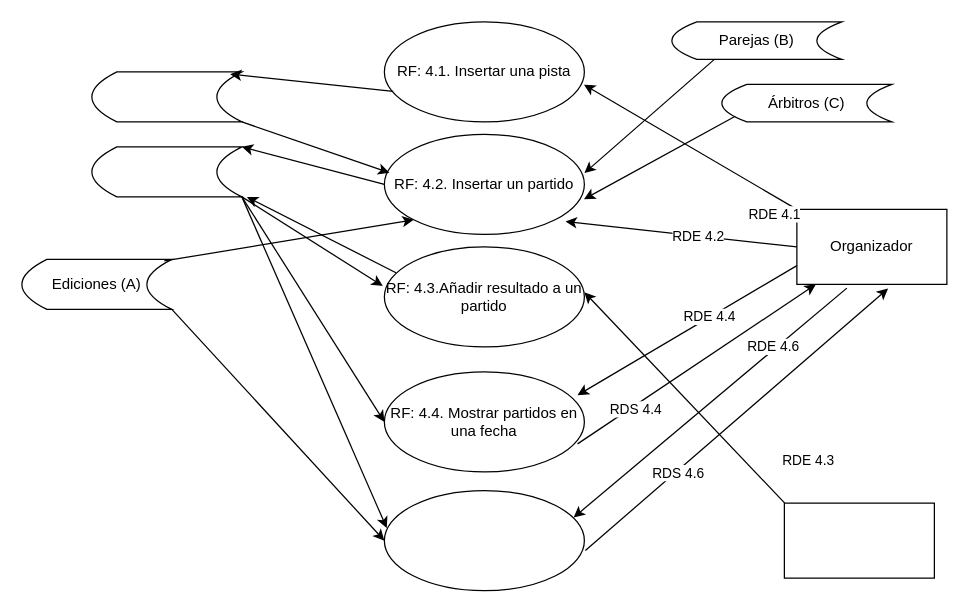
Image size: 969x613. Some labels were removed from this diagram. The shapes that lost their labels are listed below. From the top down, each one's box as (x1, y1, x2, y2) in pixels, then its label:
(91, 71, 242, 122): Pistas (G.1)
(91, 146, 242, 197): Partidos (F.1)
(383, 489, 584, 591): RF: 4.6. Mostrar partidos finalizados de una edición.
(783, 502, 934, 578): Árbitro
